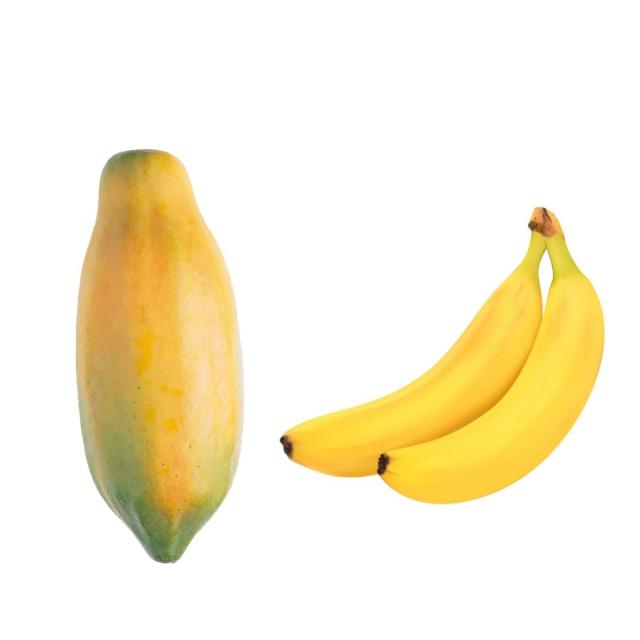Pepaya: (74, 147, 244, 563)
Pisang: (282, 220, 605, 506)
